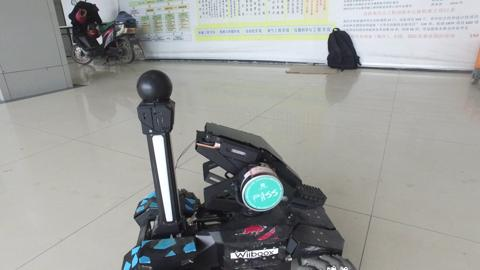chariot: (108, 59, 340, 258)
